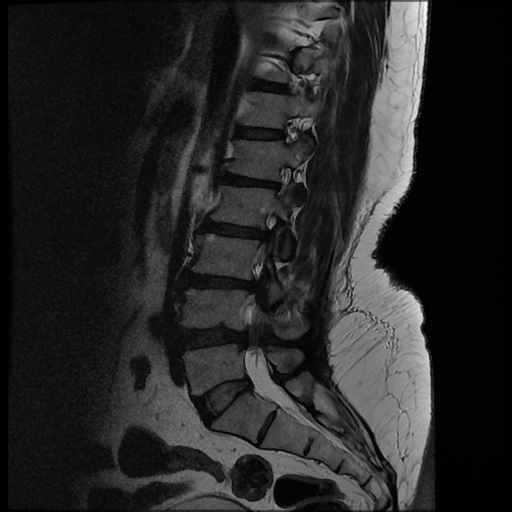RFS0: (257, 155, 303, 204)
